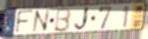1: (121, 5, 130, 29)
7: (98, 6, 114, 31)
B: (52, 7, 72, 33)
F: (15, 9, 35, 35)
J: (73, 6, 92, 32)
N: (31, 8, 50, 34)
